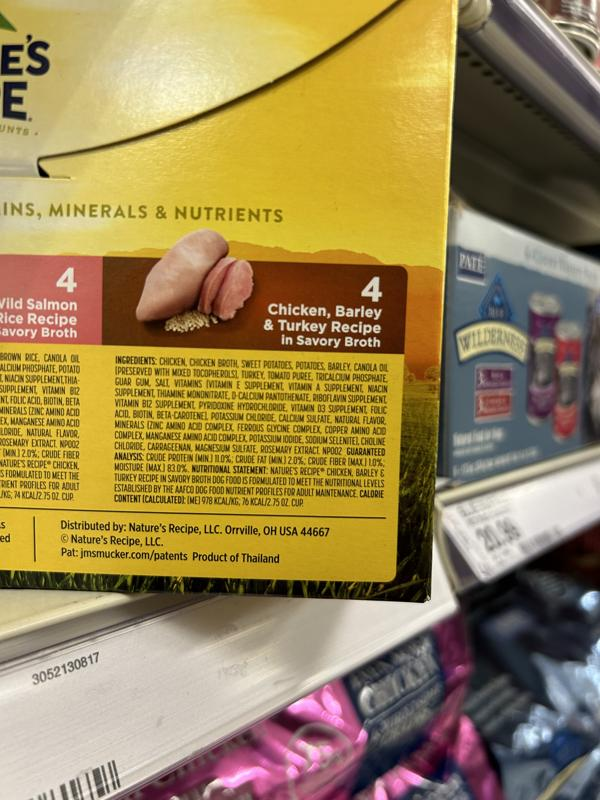ingredients: (111, 353, 390, 508)
